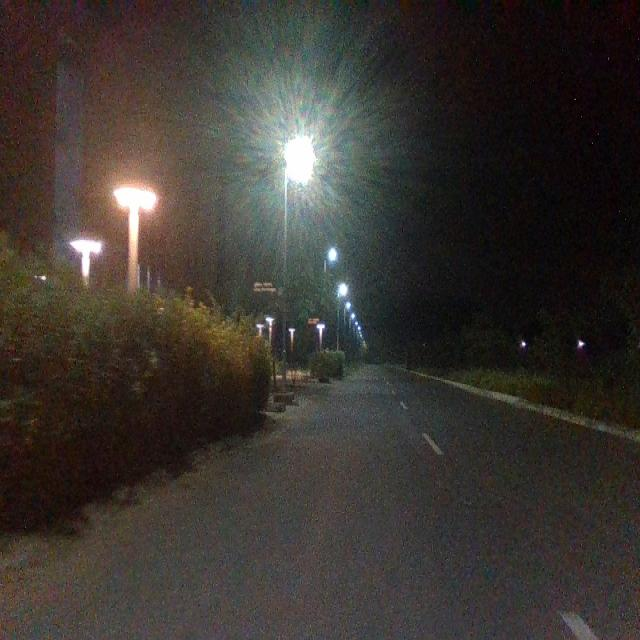lane: (0, 366, 579, 640)
